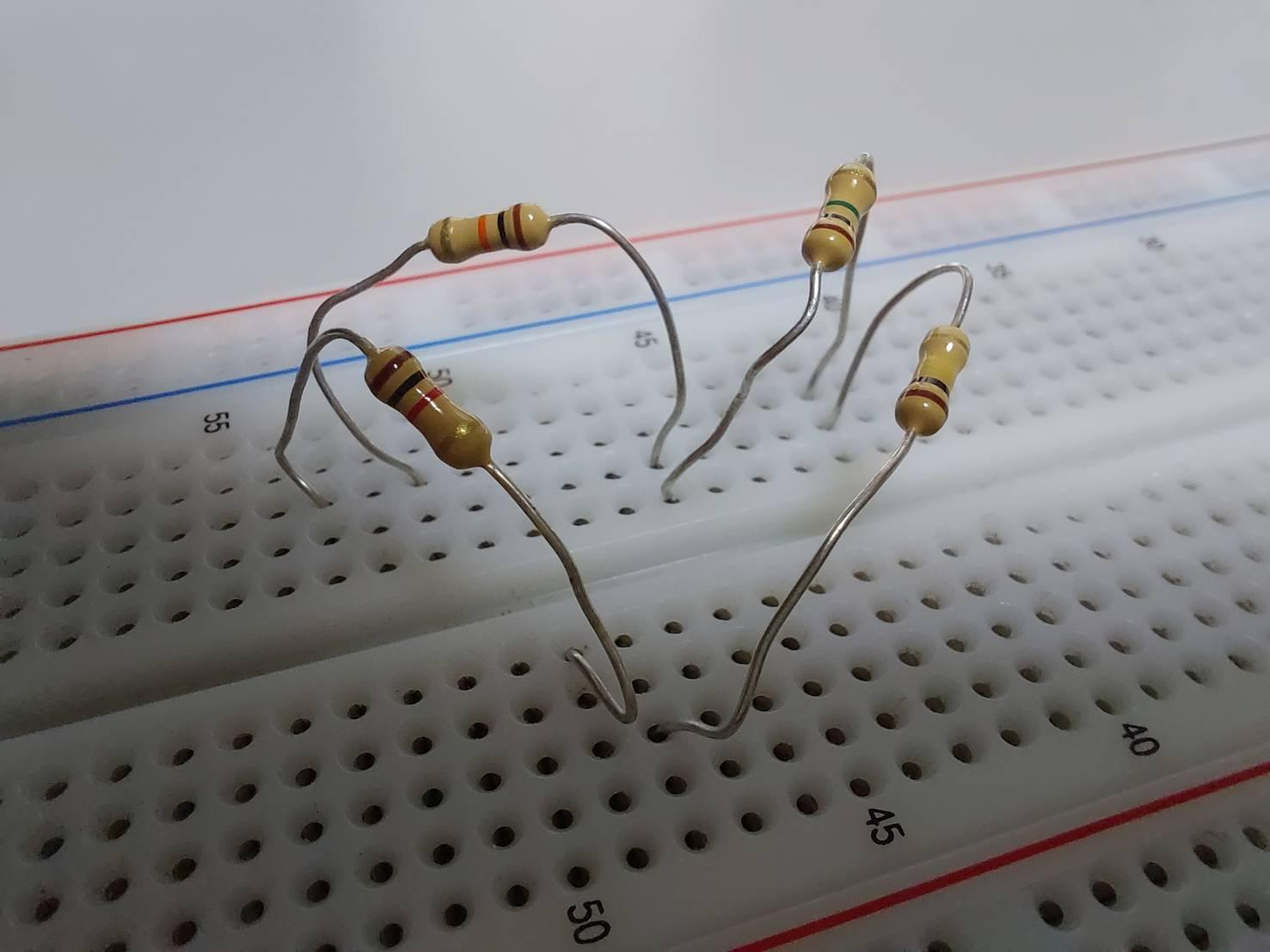resistor: (367, 334, 489, 470), (795, 156, 874, 275), (420, 198, 557, 262), (893, 331, 974, 435)
